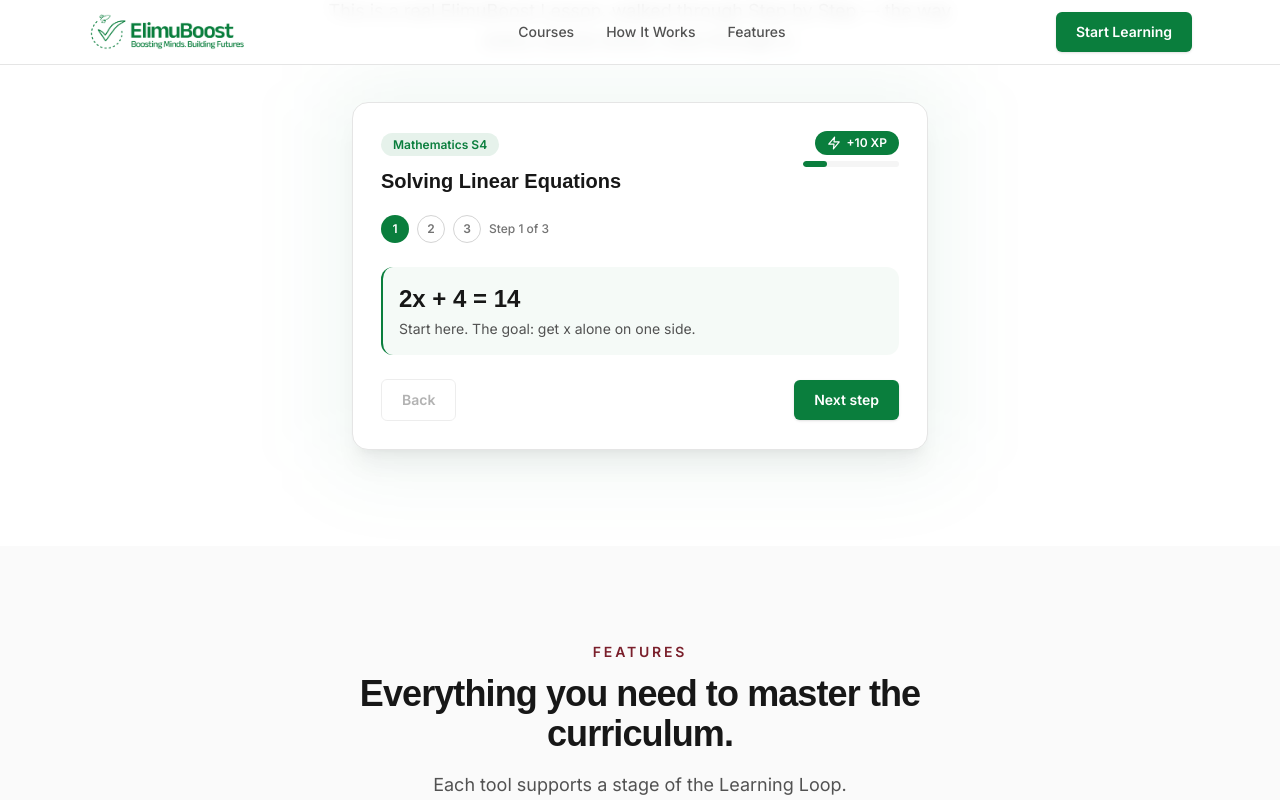
Product preview › presents the Your turn question and reveals the answer on click
(page scrolled)
Click the button "Next step": (847, 400) [794,380,899,420]
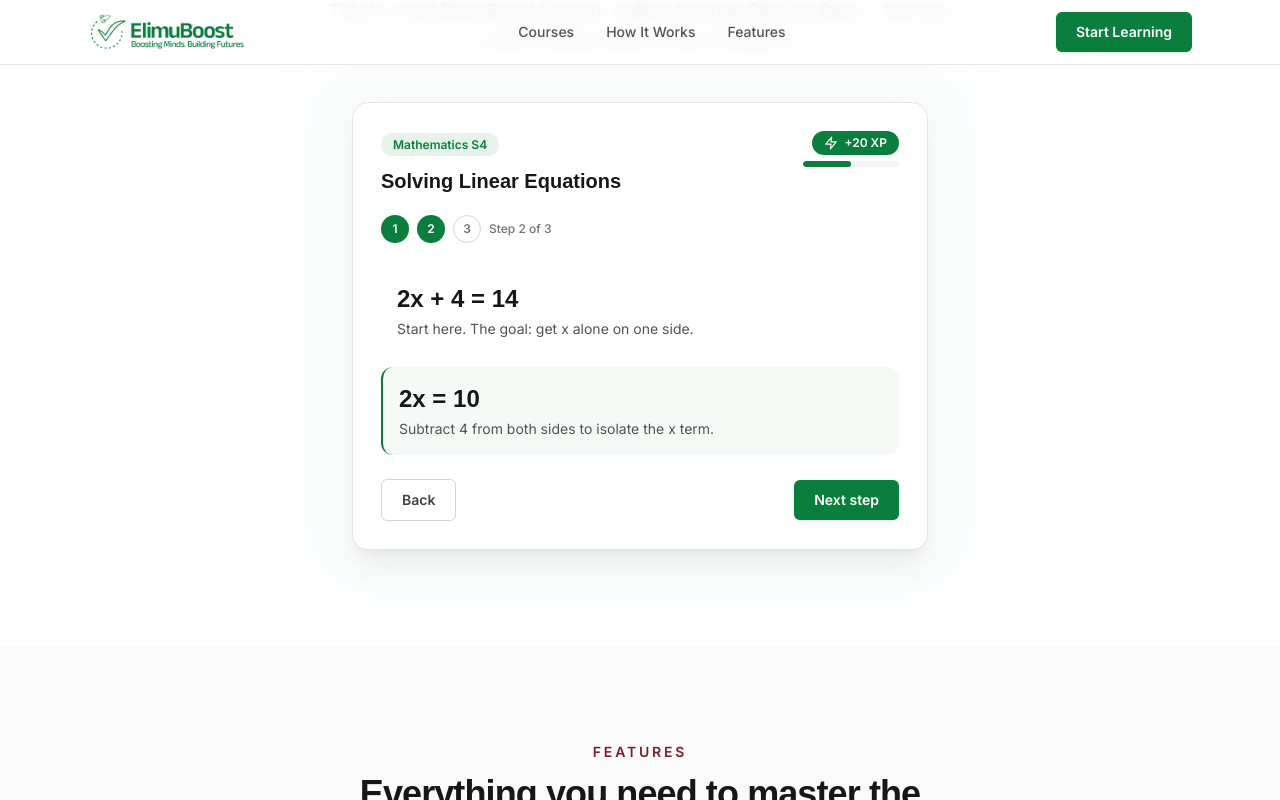
Click the button "Next step": (847, 500) [794,480,899,520]
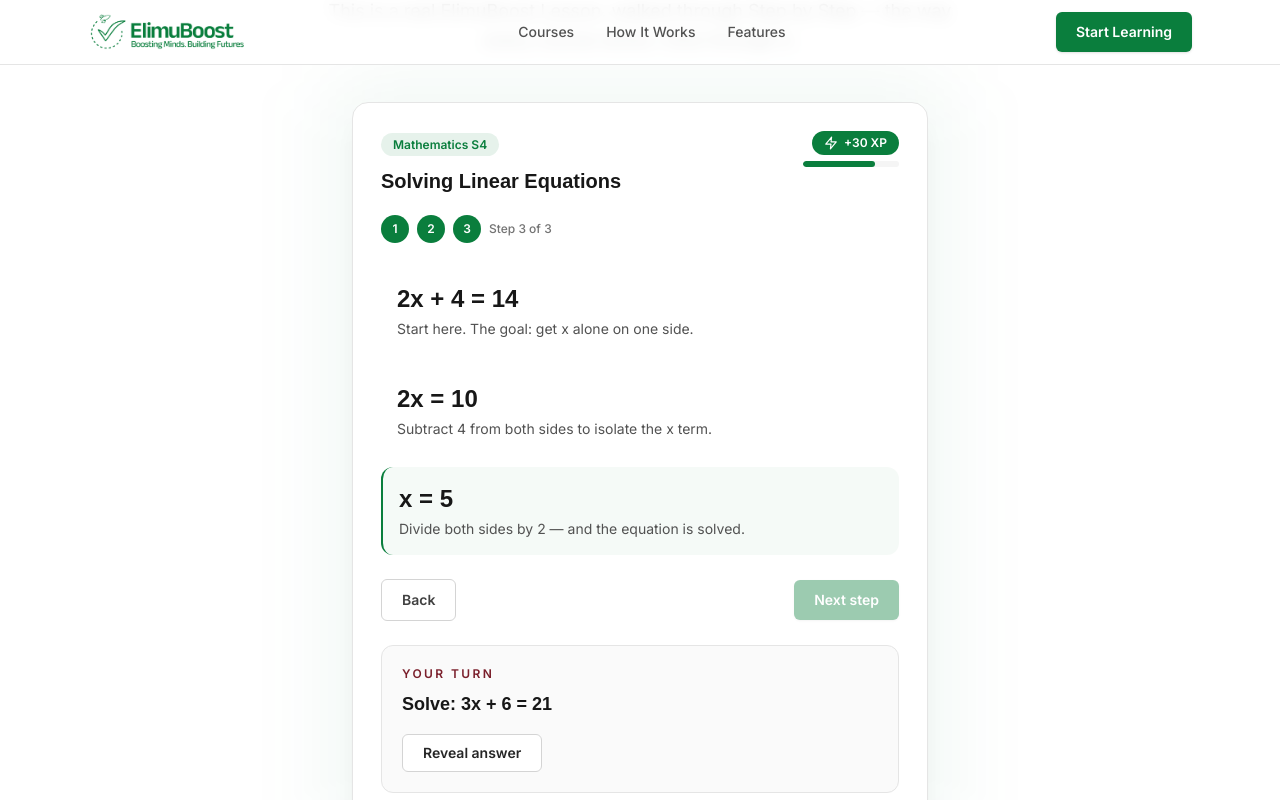
Result: the text "Solve: 3x + 6 = 21" is shown at [402,694,552,714]
Click the button "Reveal answer": (472, 753) [402,734,542,772]
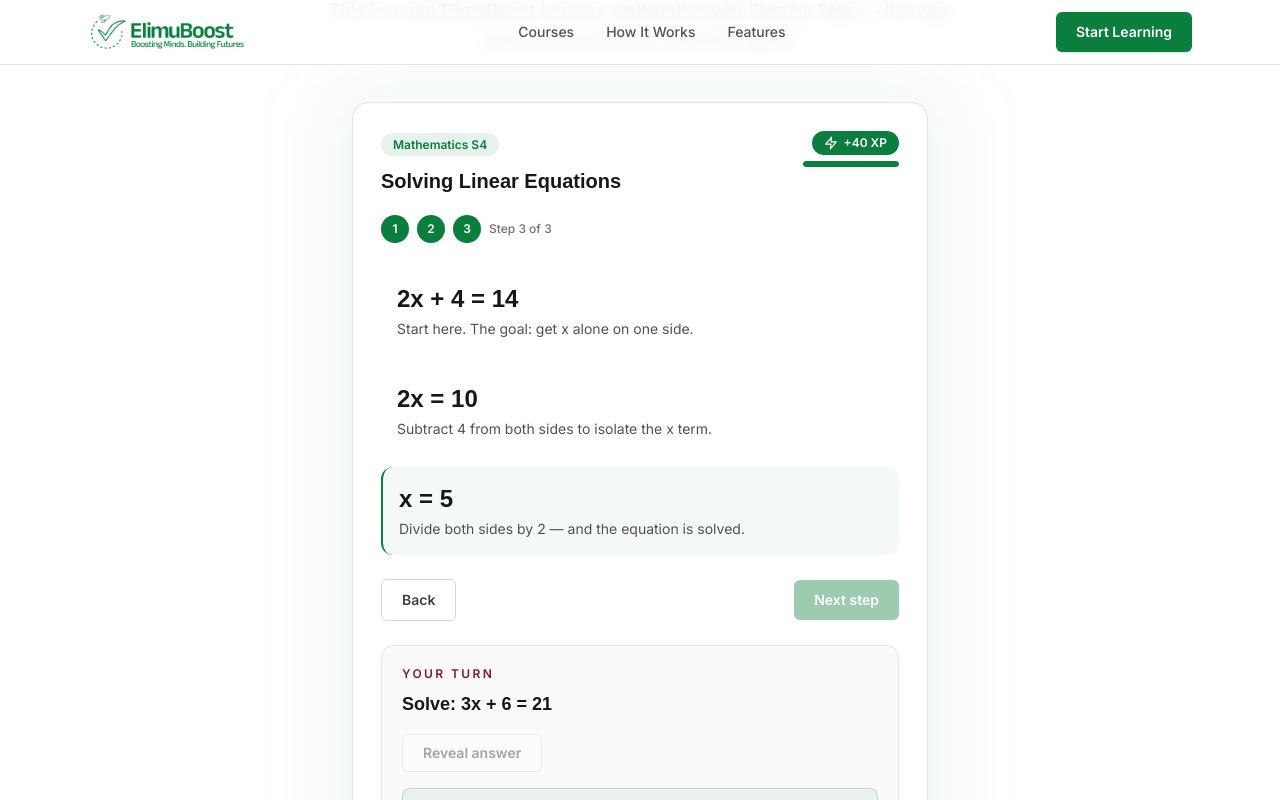
Result: the text "+40 XP" is shown at [812,131,899,155]
